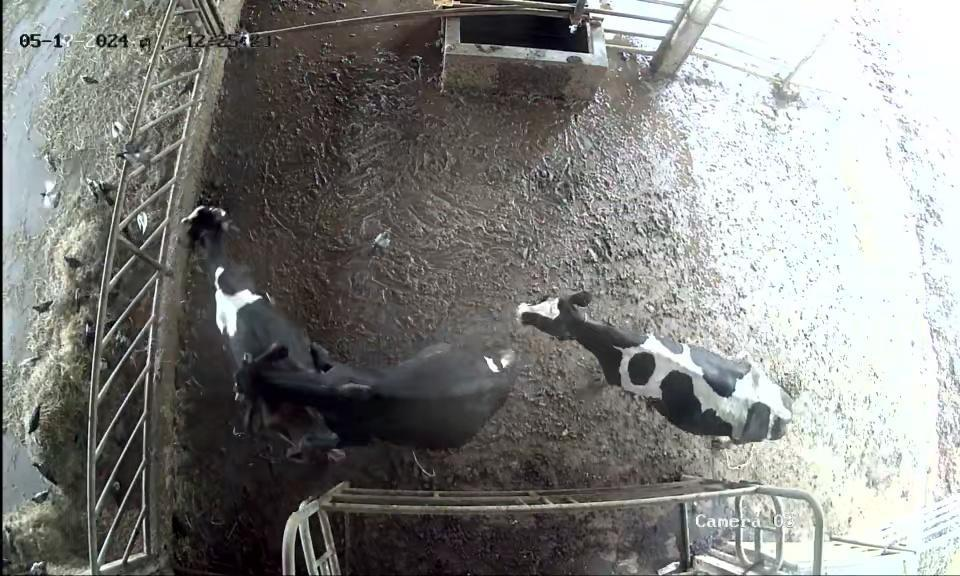ride: (232, 334, 544, 462)
stand: (511, 277, 818, 463), (178, 198, 331, 380)
